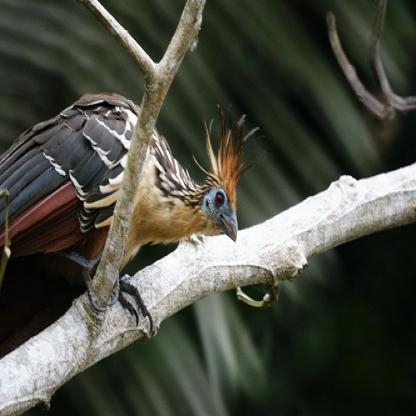bird: (0, 92, 261, 335)
